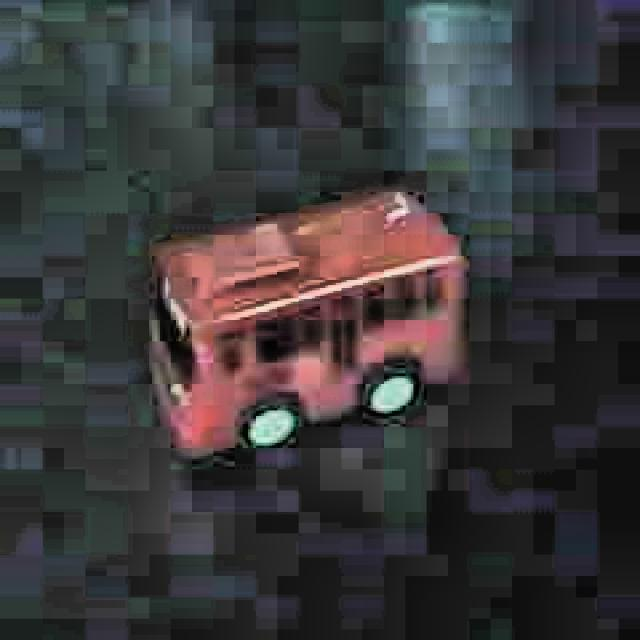bus: (144, 186, 464, 464)
